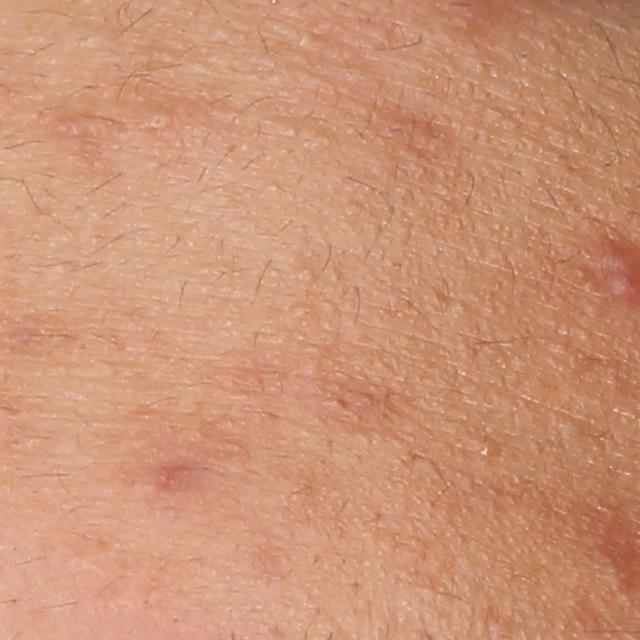comedo: (291, 300, 320, 323), (147, 110, 172, 131), (295, 265, 319, 286)
papule: (608, 275, 640, 303)
